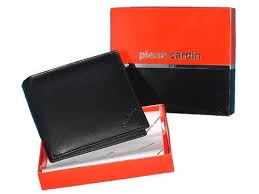monedero: (22, 50, 149, 163)
